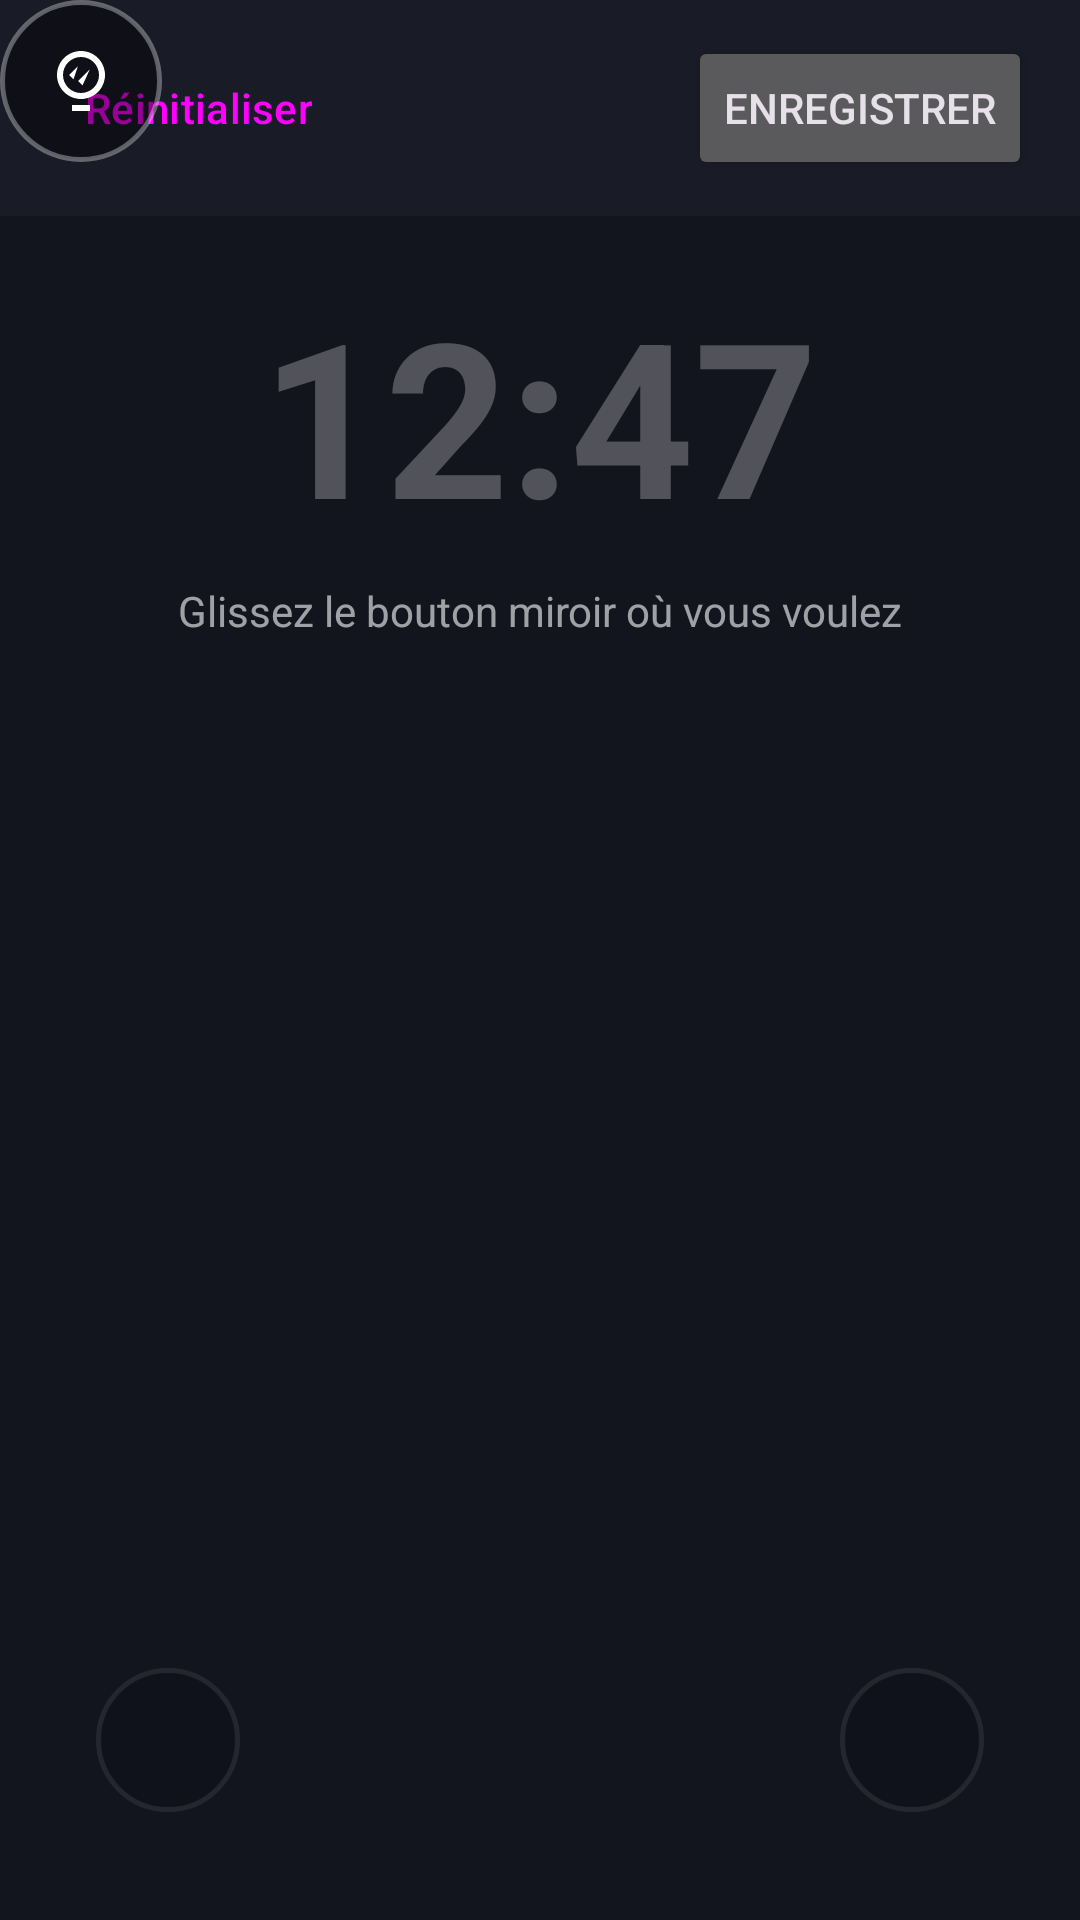

Point at icon controls on the screen. Image size 1080w x 1920h, points as point (x, y).
mirror: point (87, 84)
